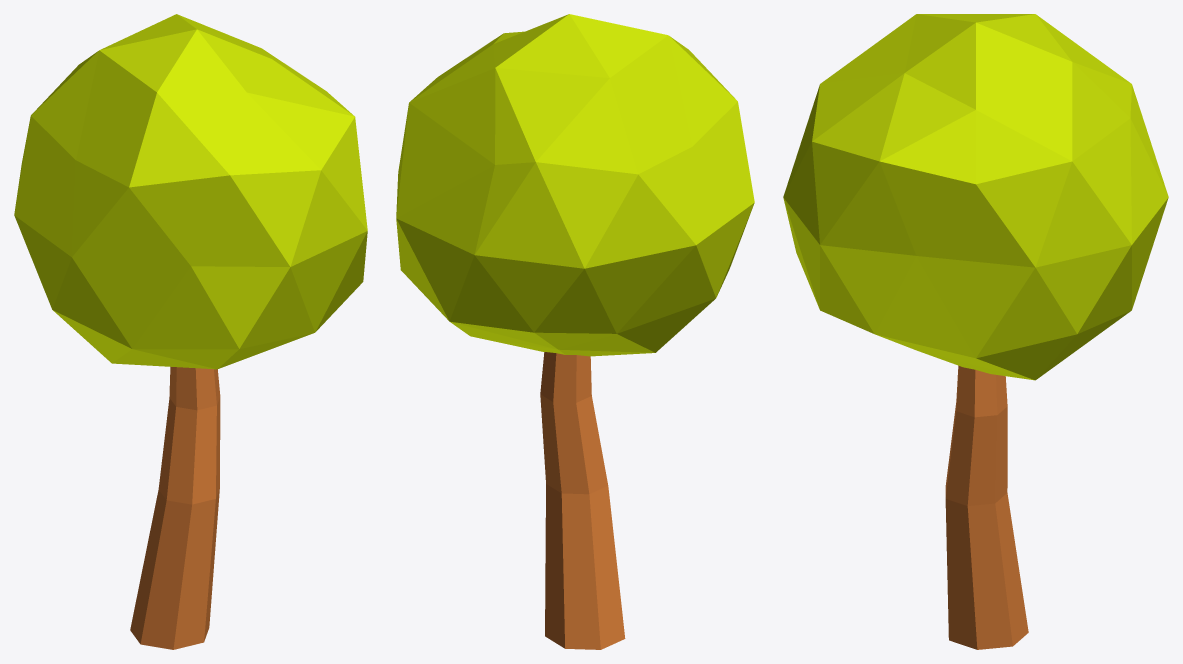
File: Tree1.fbx
The picture shows the model from 3 angles, left to right: view 1: azimuth 30°, elevation 25°; view 2: azimuth 150°, elevation 25°; view 3: azimuth 270°, elevation 25°; orthographic projection. The views are drawn at different scales.
Visible parts, largest first — view 1: Tree1; view 2: Tree1; view 3: Tree1.
Boxes of the visible parts, x1,y1,x2,y2 form: Tree1: [14, 14, 367, 649]; Tree1: [396, 14, 754, 649]; Tree1: [783, 14, 1168, 649].
Bounding box in the file's own units: 53.75 × 105 × 59.21.
